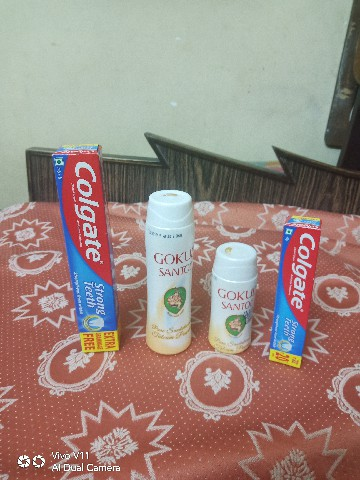colgatetoothpaste big: (35, 137, 138, 363)
colgatetoothpaste small: (268, 205, 327, 386)
gokulsantol big: (140, 189, 205, 372)
gokulsantol small: (208, 231, 260, 359)
